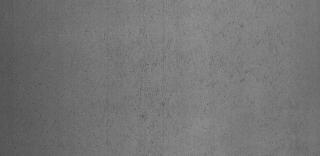silk spot: (176, 4, 312, 96), (119, 4, 173, 134)
